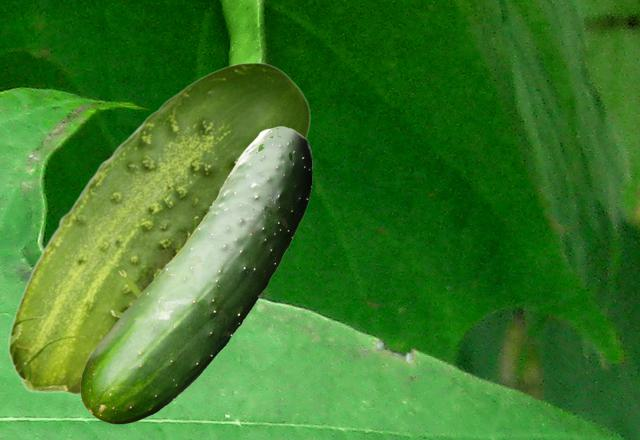cucumber: (7, 62, 309, 394), (80, 126, 311, 423)
